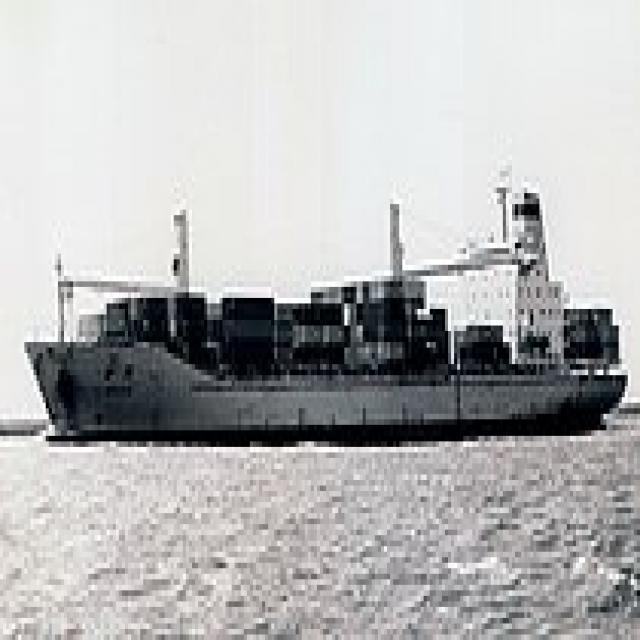Ship: (19, 134, 629, 465)
